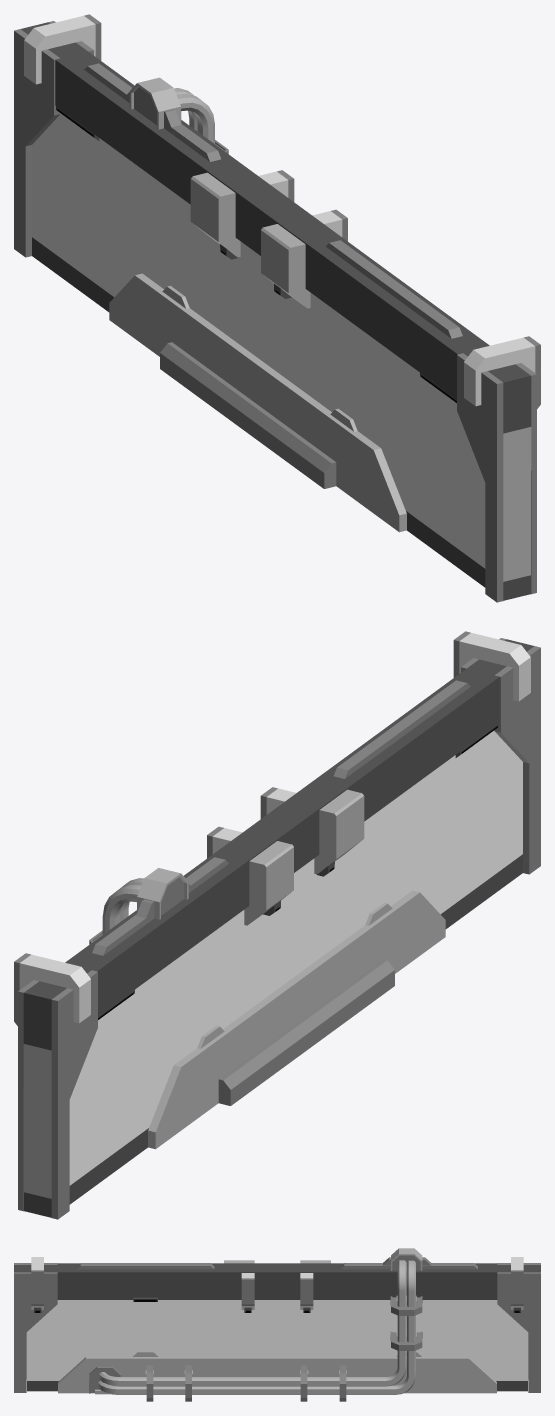
Rendered from SM_Wall_3x12_1.fbx.
The picture shows the model from 3 angles, top to bottom: view 1: azimuth 30°, elevation 25°; view 2: azimuth 150°, elevation 25°; view 3: azimuth 270°, elevation 25°; orthographic projection. The views are drawn at different scales.
Visible parts, largest first — view 1: SM_Wall_3x12_1; view 2: SM_Wall_3x12_1; view 3: SM_Wall_3x12_1.
Boxes of the visible parts, x1,y1,x2,y2 form: SM_Wall_3x12_1: (14, 14, 540, 602); SM_Wall_3x12_1: (14, 631, 540, 1219); SM_Wall_3x12_1: (14, 1248, 540, 1401).
Size of the model in its own units: 144 by 344 by 1202.
